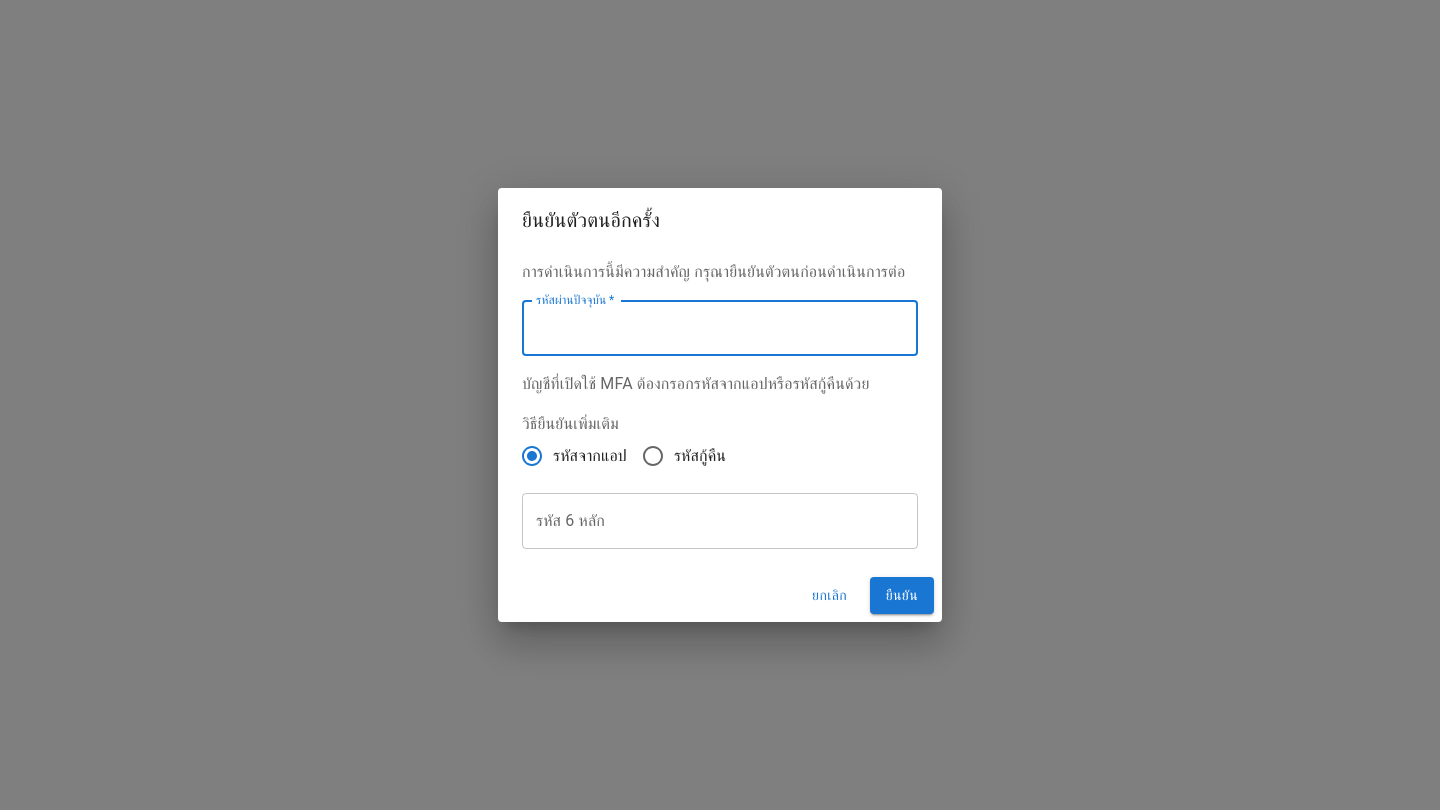
Test: ReauthenticationDialog › rejects an incomplete optional TOTP locally
The image size is (1440, 810).
Type "password" into the password field labelled "รหัสผ่านปัจจุบัน *". click: x=720, y=328
box: [522, 300, 918, 356]
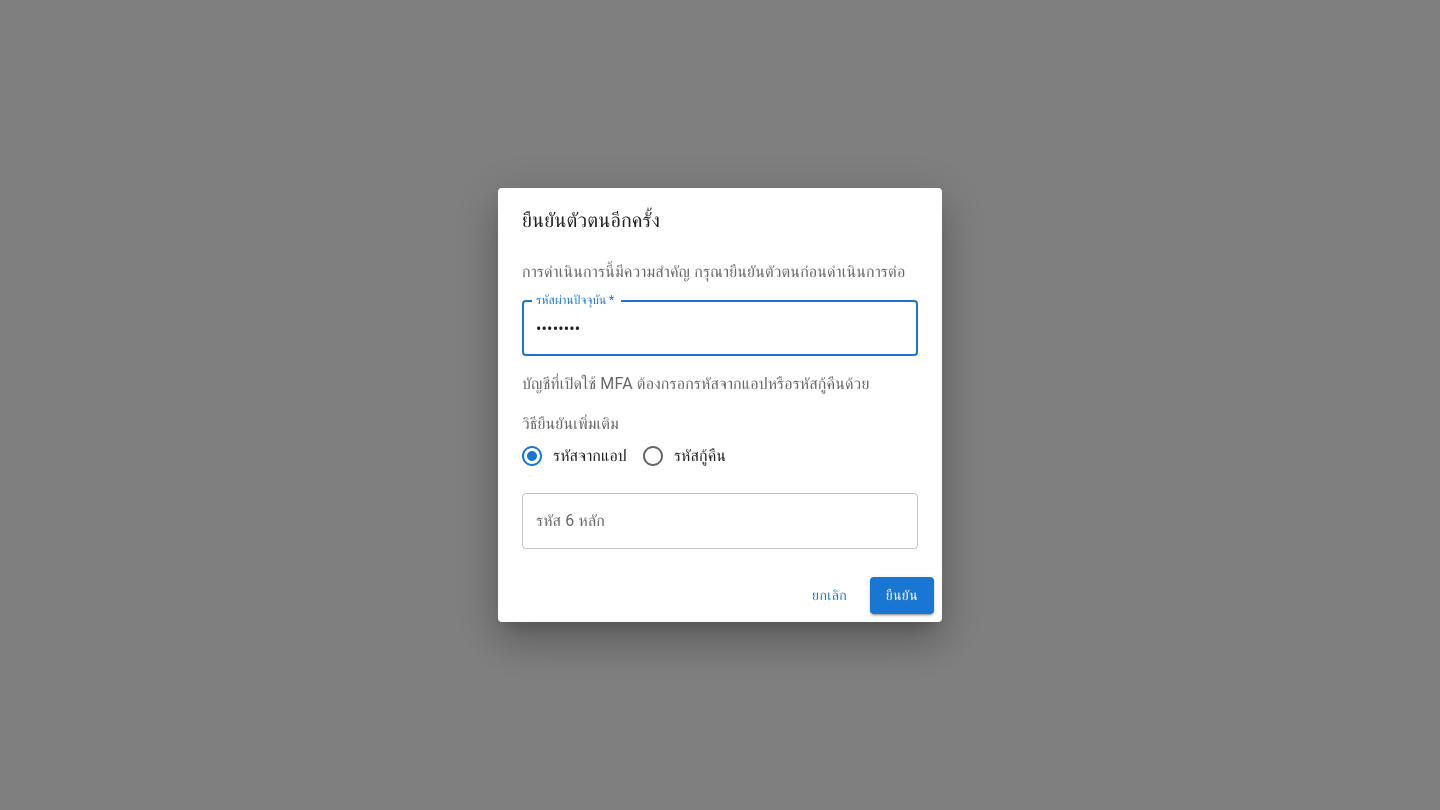
Type "12345" into the field labelled "รหัส 6 หลัก". click: x=720, y=521
box: [522, 493, 918, 549]
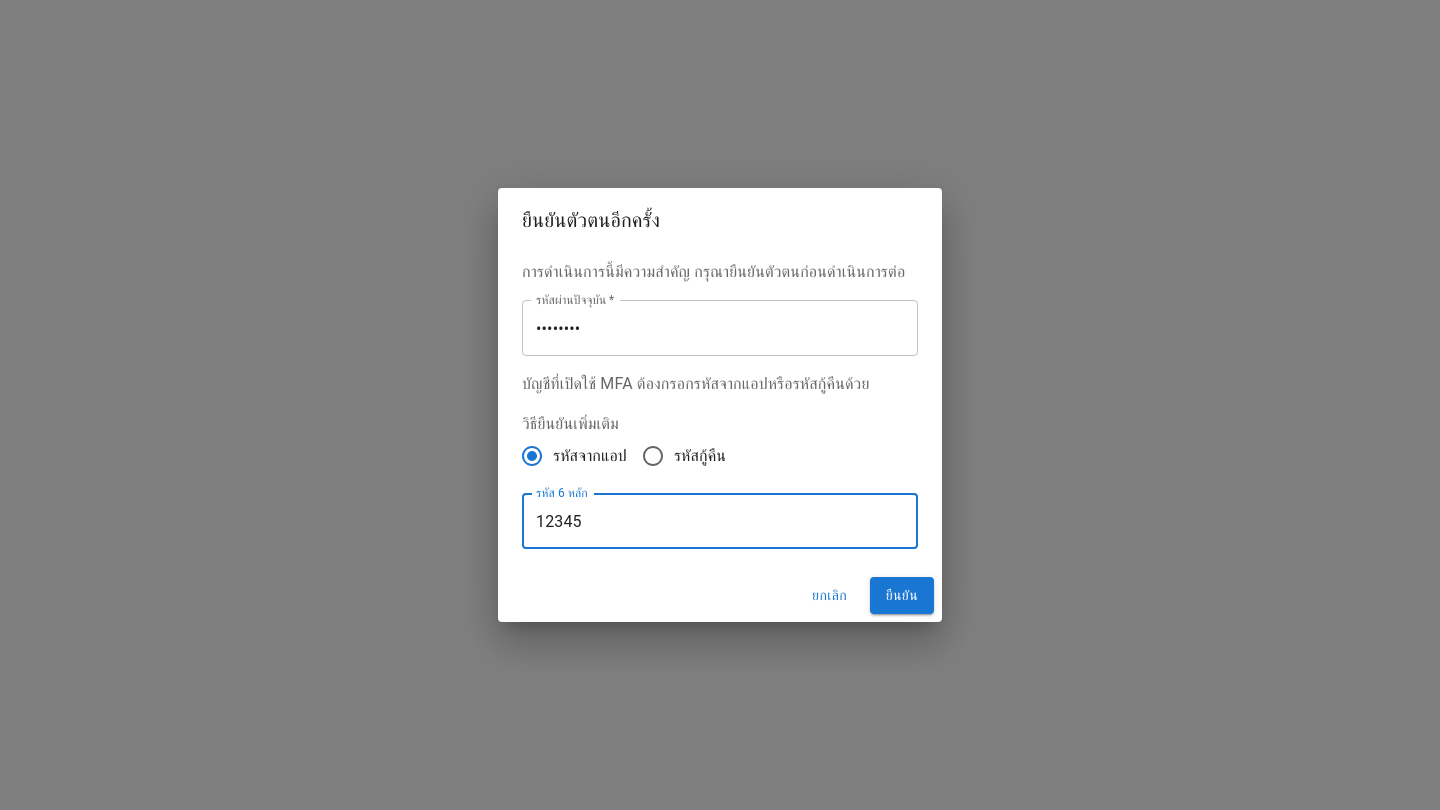
Click the button "ยืนยัน". click: x=902, y=596
box: [870, 577, 934, 614]
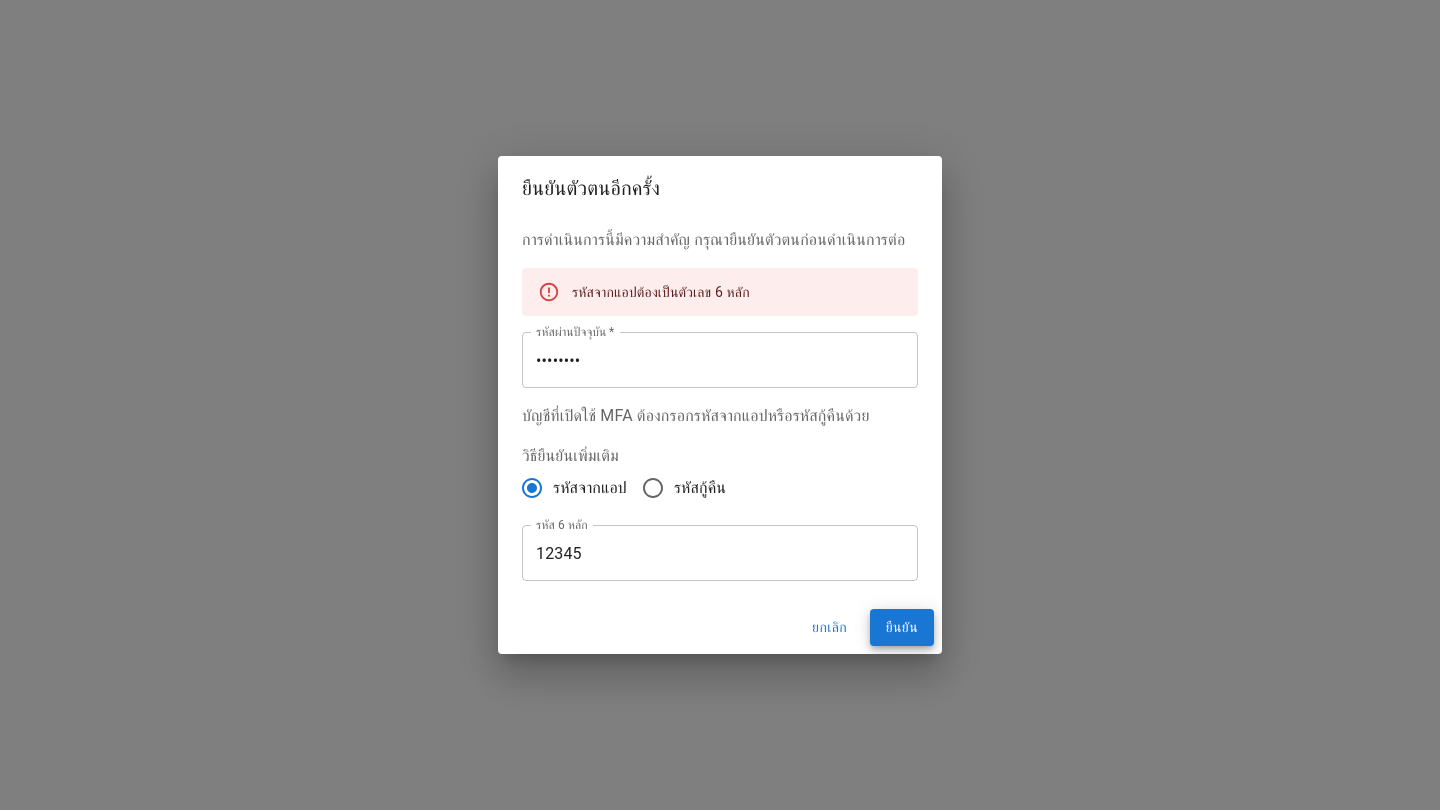
Expected: the dialog is shown, [498, 156, 942, 654]
Result: the text "รหัสจากแอปต้องเป็นตัวเลข 6 หลัก" is shown at [572, 284, 750, 300]
